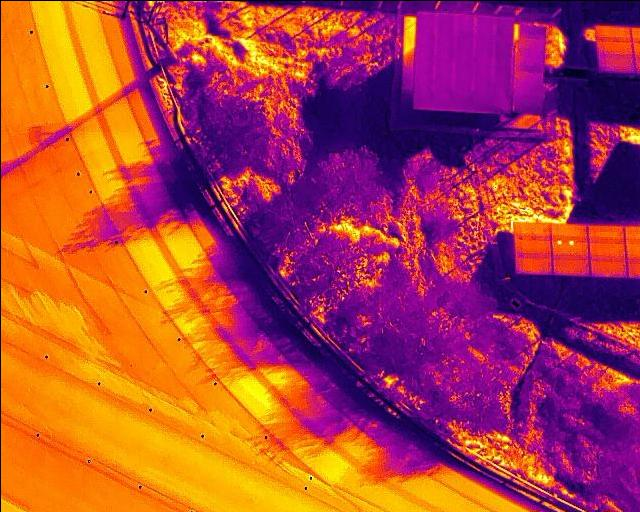Cell-Multi: (551, 239, 589, 255)
No-Anomaly: (551, 256, 589, 274), (589, 241, 625, 260), (515, 254, 551, 272), (596, 54, 634, 71), (514, 238, 550, 255), (513, 221, 550, 237), (588, 260, 626, 275), (595, 25, 632, 40), (588, 225, 624, 240), (596, 40, 633, 54), (550, 225, 587, 239)
